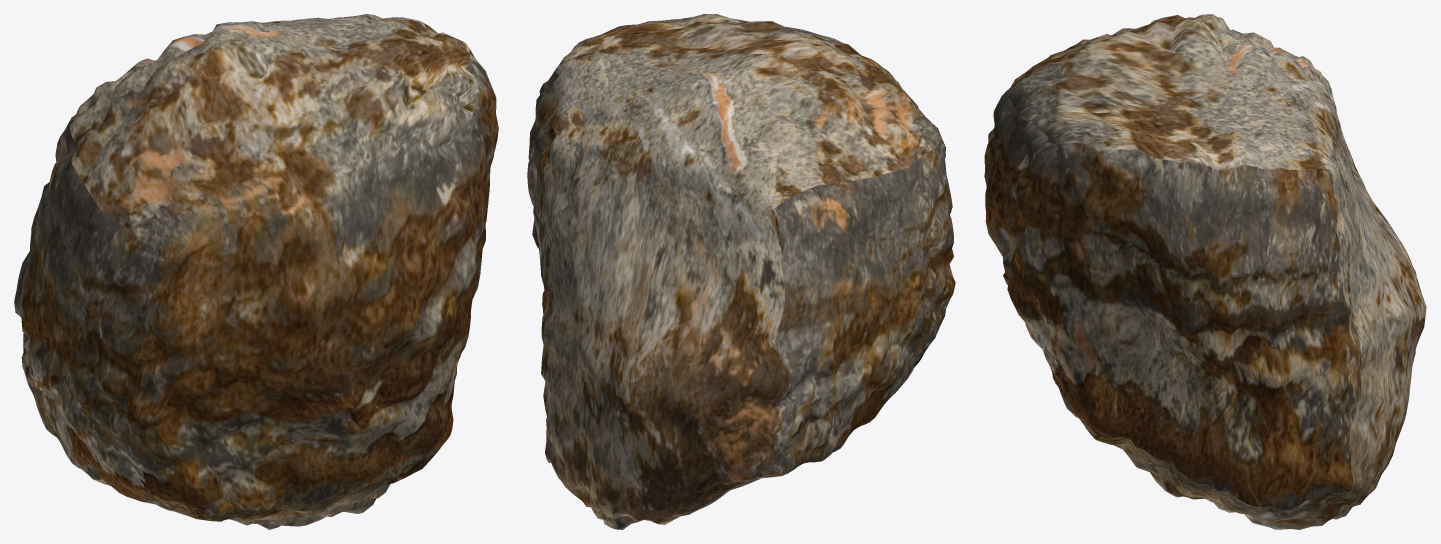
File: asteroid03.obj
3 renders of one model, left to right at view 1: azimuth 30°, elevation 25°; view 2: azimuth 150°, elevation 25°; view 3: azimuth 270°, elevation 25°, orthographic. The views are drawn at different scales.
Parts seen in each view (by area): view 1: pCube1; view 2: pCube1; view 3: pCube1.
Part boxes in pixels (box(x1,y1,x2,y2)): pCube1: box(14, 14, 498, 529); pCube1: box(527, 14, 955, 529); pCube1: box(984, 14, 1426, 529).
Size of the model in its own units: 60.52 by 70.47 by 61.65.
